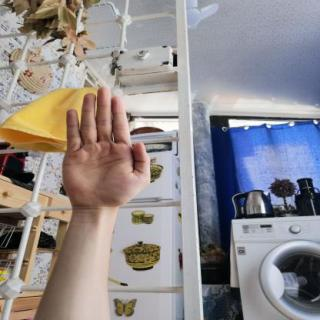SEEN: (54, 83, 156, 212)
